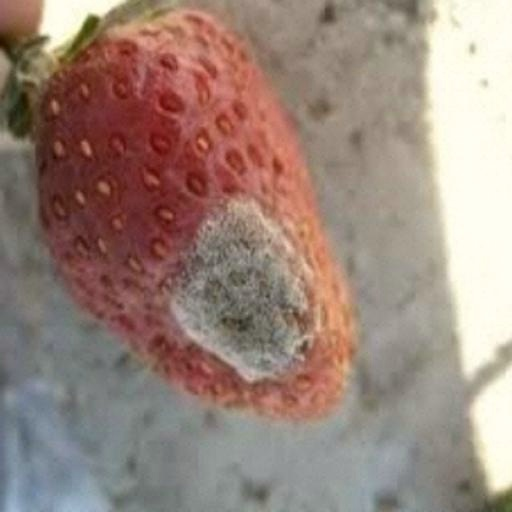Gray Mold: (189, 117, 355, 322)
